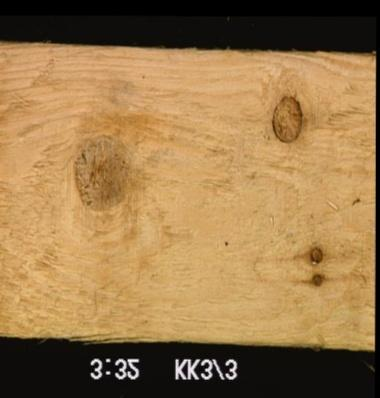dry_knot: (269, 94, 302, 143)
sound_knot: (70, 133, 135, 214)
split: (65, 327, 184, 342)
